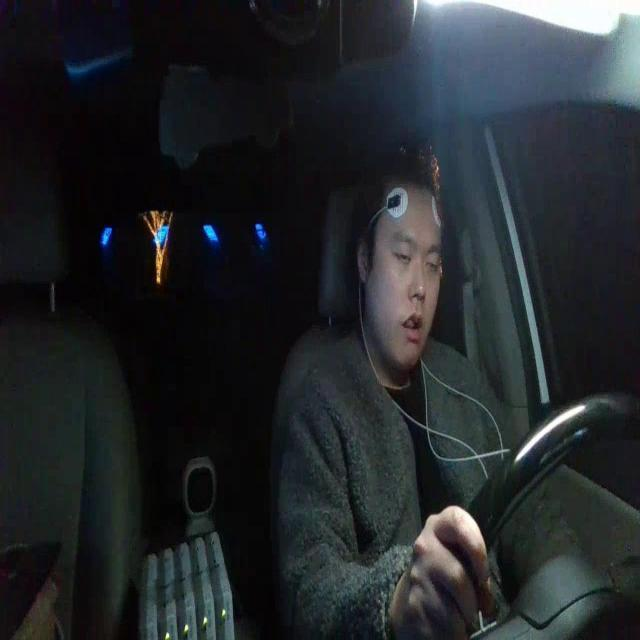Attentive: (350, 144, 444, 368)
